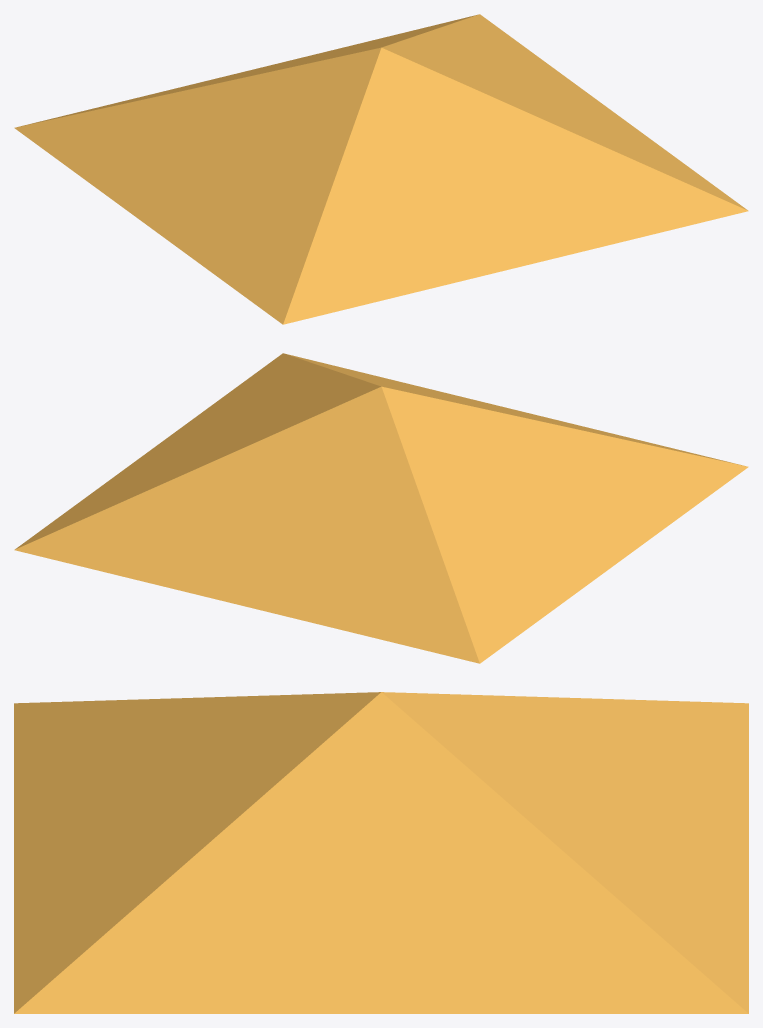
Rendered from Roof-Shallow-4x4x1-Point.FBX.
The picture shows the model from 3 angles, top to bottom: view 1: azimuth 30°, elevation 25°; view 2: azimuth 150°, elevation 25°; view 3: azimuth 270°, elevation 25°; orthographic projection. The views are drawn at different scales.
Parts seen in each view (by area): view 1: Roof-Shallow-4x4x1-Point; view 2: Roof-Shallow-4x4x1-Point; view 3: Roof-Shallow-4x4x1-Point.
Part boxes in pixels (x1,y1,x2,y2): Roof-Shallow-4x4x1-Point: (14, 14, 748, 324); Roof-Shallow-4x4x1-Point: (14, 353, 748, 663); Roof-Shallow-4x4x1-Point: (14, 692, 748, 1013).
Bounding box in the file's own units: 40 × 40 × 10.
